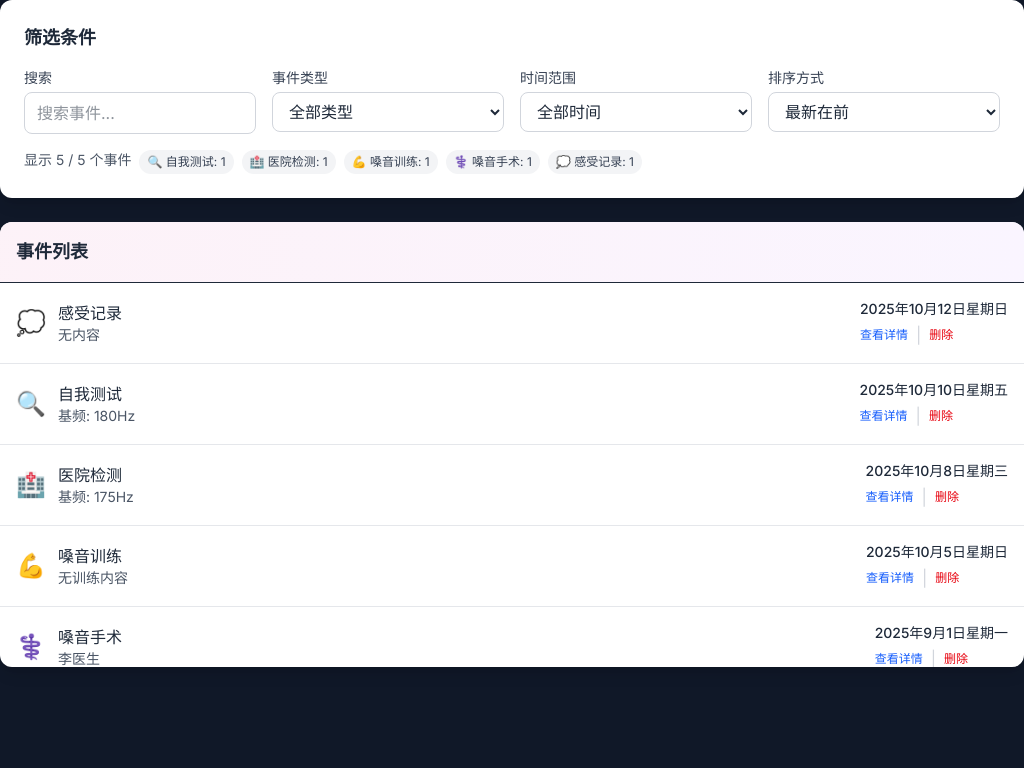
Scenario: EventManager 组件集成测试 › 搜索功能 › 应该能够通过搜索框筛选事件
This screenshot has width=1024, height=768.
In the field with placeholder "搜索事件...": (140, 113) [24,92,256,134], type "今天状态"
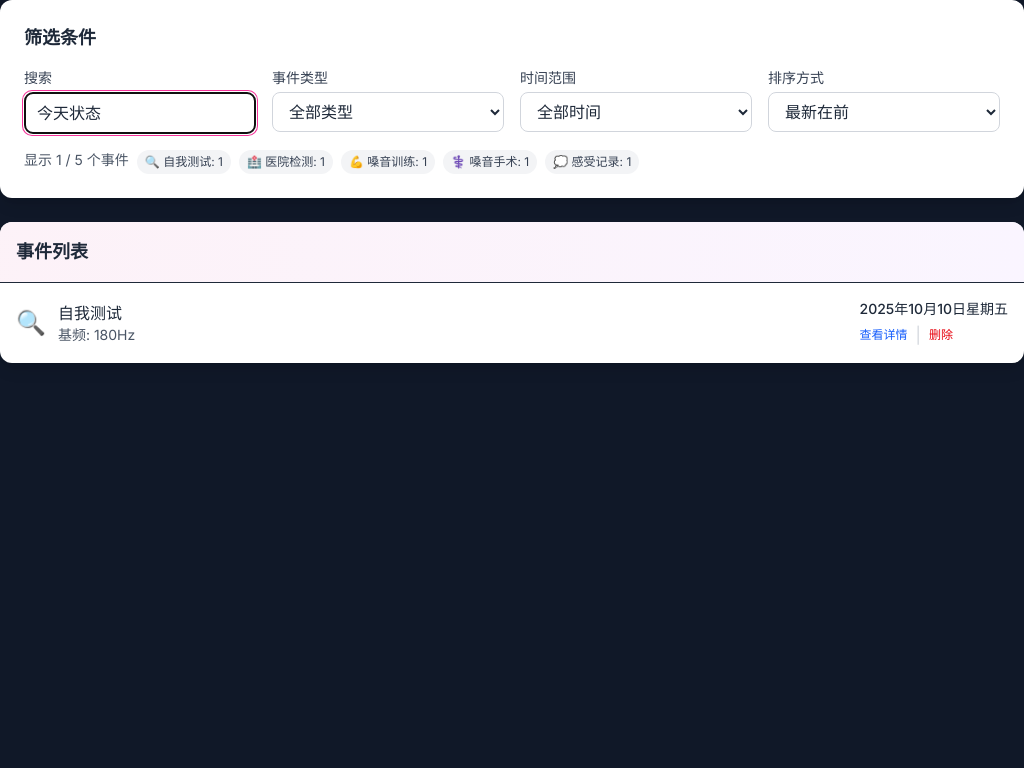
Expected: the heading "自我测试" is shown, [58,303,122,323]
Expected: the text "显示 1 / 5 个事件" is shown, [24,150,129,174]
